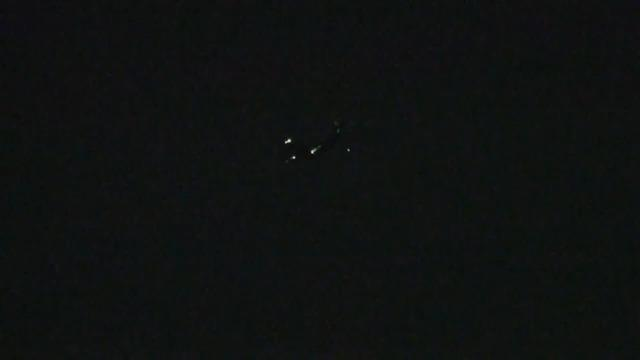Plane: (257, 108, 369, 178)
